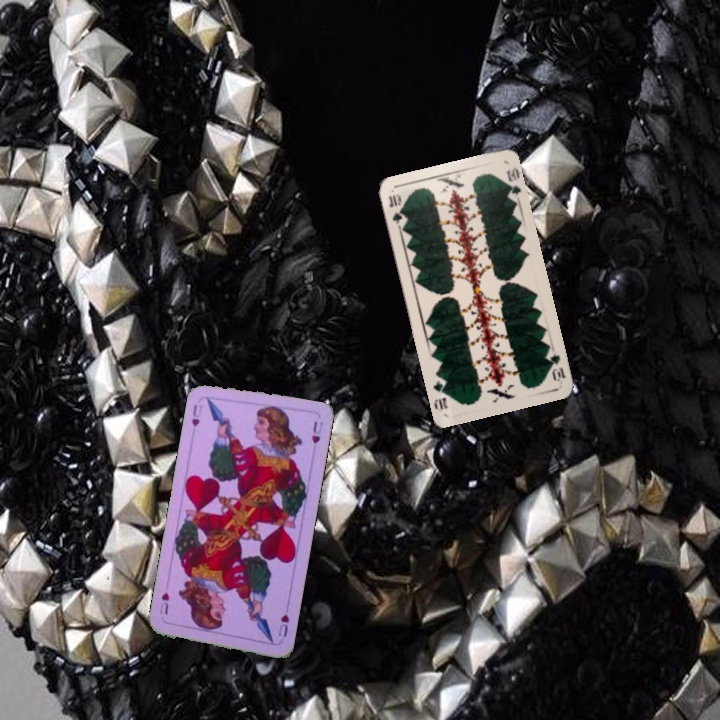G10: (545, 350, 568, 384), (385, 190, 406, 227)
HU: (274, 610, 292, 640), (188, 401, 205, 429)
